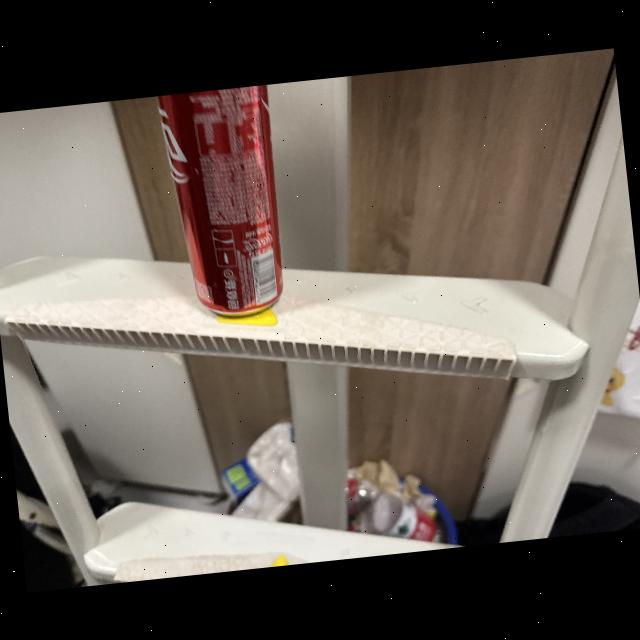Cola: (152, 84, 298, 328)
